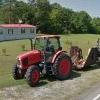Tractor: (8, 24, 75, 94)
